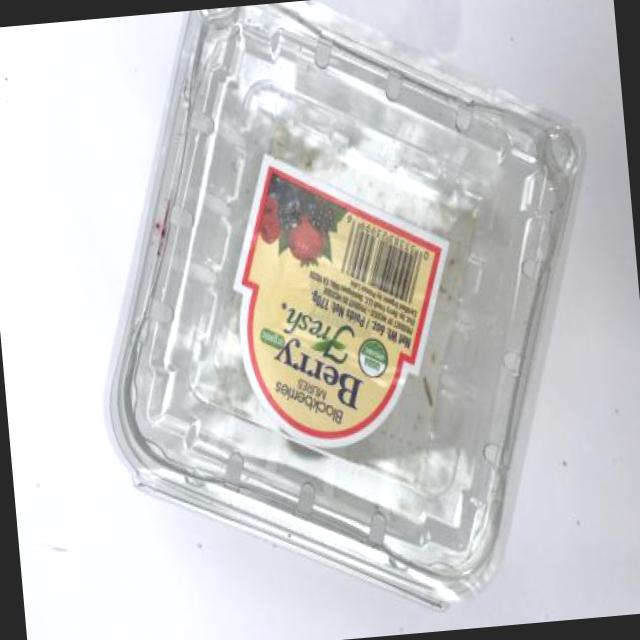Trash: (94, 0, 632, 620)
